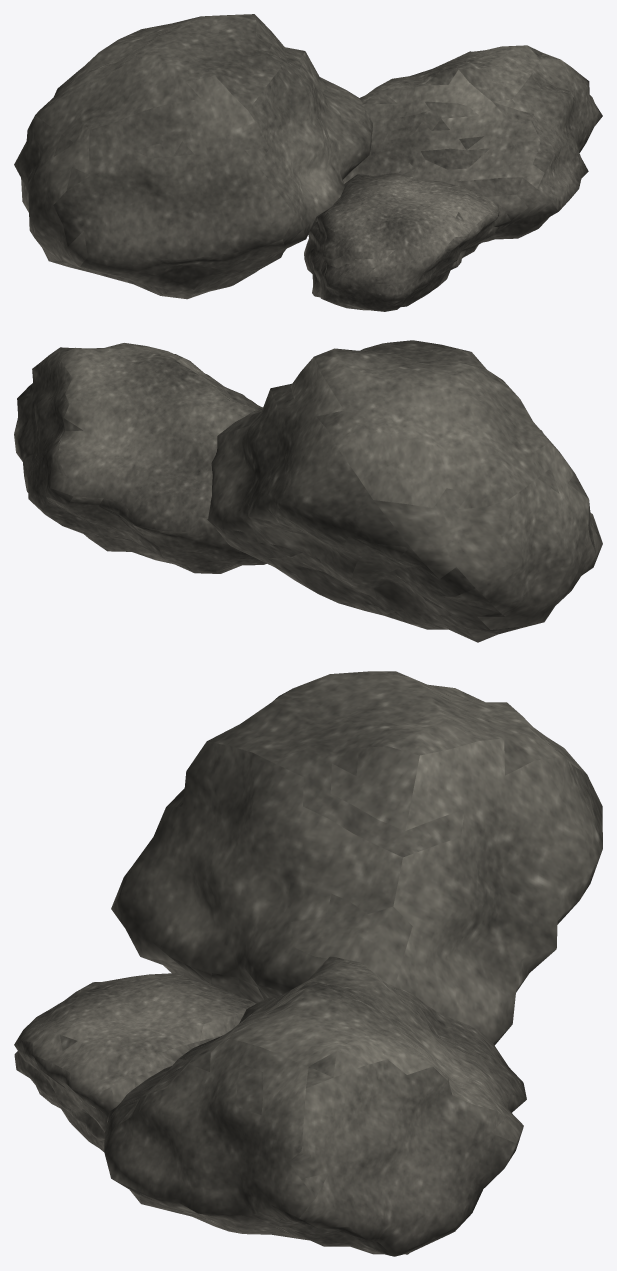
Rendered from RockCluster.glb.
3 renders of one model, top to bottom at view 1: azimuth 30°, elevation 25°; view 2: azimuth 150°, elevation 25°; view 3: azimuth 270°, elevation 25°, orthographic. The views are drawn at different scales.
Parts seen in each view (by area): view 1: RockClusterVisual; view 2: RockClusterVisual; view 3: RockClusterVisual.
Boxes of the visible parts, <box> form: RockClusterVisual: <box>14,14,602,311</box>; RockClusterVisual: <box>14,340,602,642</box>; RockClusterVisual: <box>14,671,602,1256</box>.
Size of what is drawn, in the model's own units: 4.43 by 1.78 by 2.71.
Materials: 1 (1 with a texture image).
